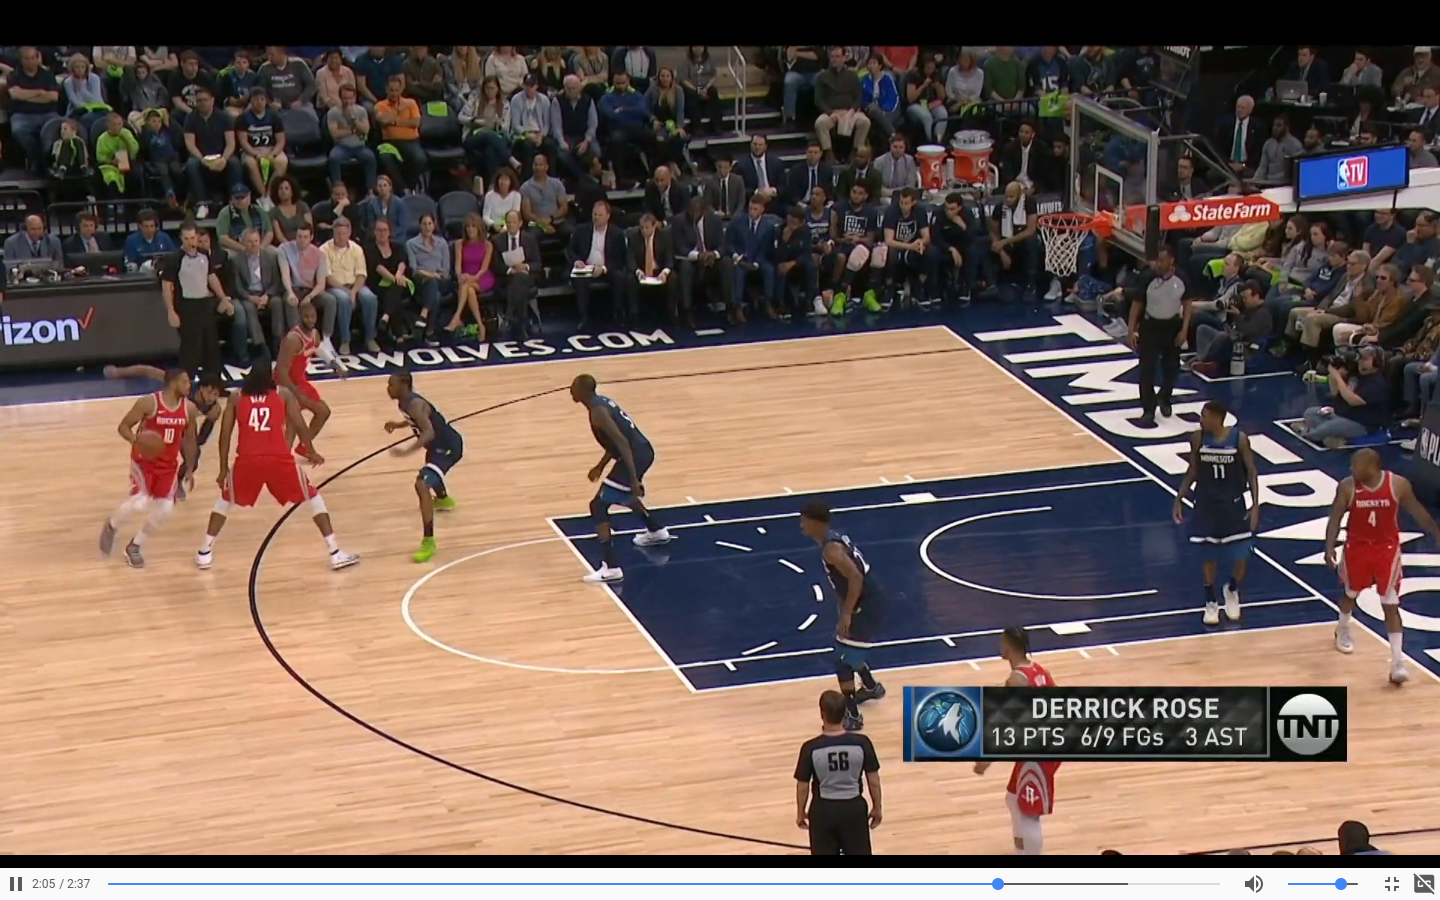ball: (137, 431, 166, 459)
player: (1332, 451, 1427, 689), (205, 353, 293, 593), (102, 374, 196, 573), (380, 377, 472, 576), (796, 502, 892, 692), (562, 366, 643, 583), (1191, 394, 1266, 625)
referee: (790, 699, 872, 856), (1132, 254, 1191, 432)
